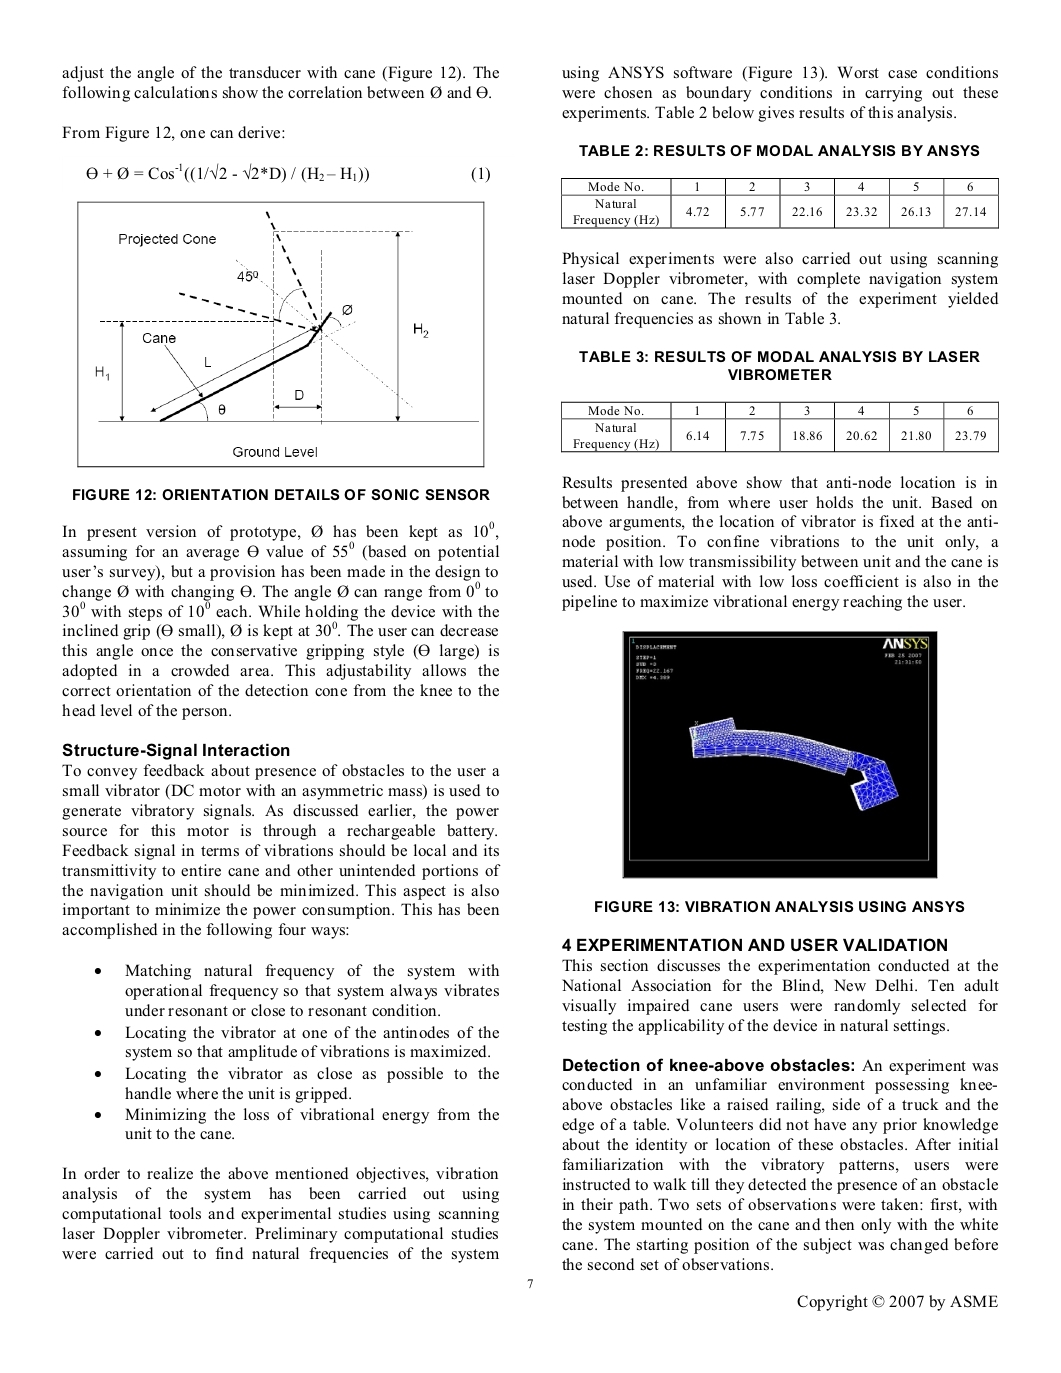Table: (561, 400, 997, 452), (561, 177, 997, 228)
figure: (77, 199, 484, 468), (622, 630, 937, 879)
formula: (86, 162, 489, 183)
